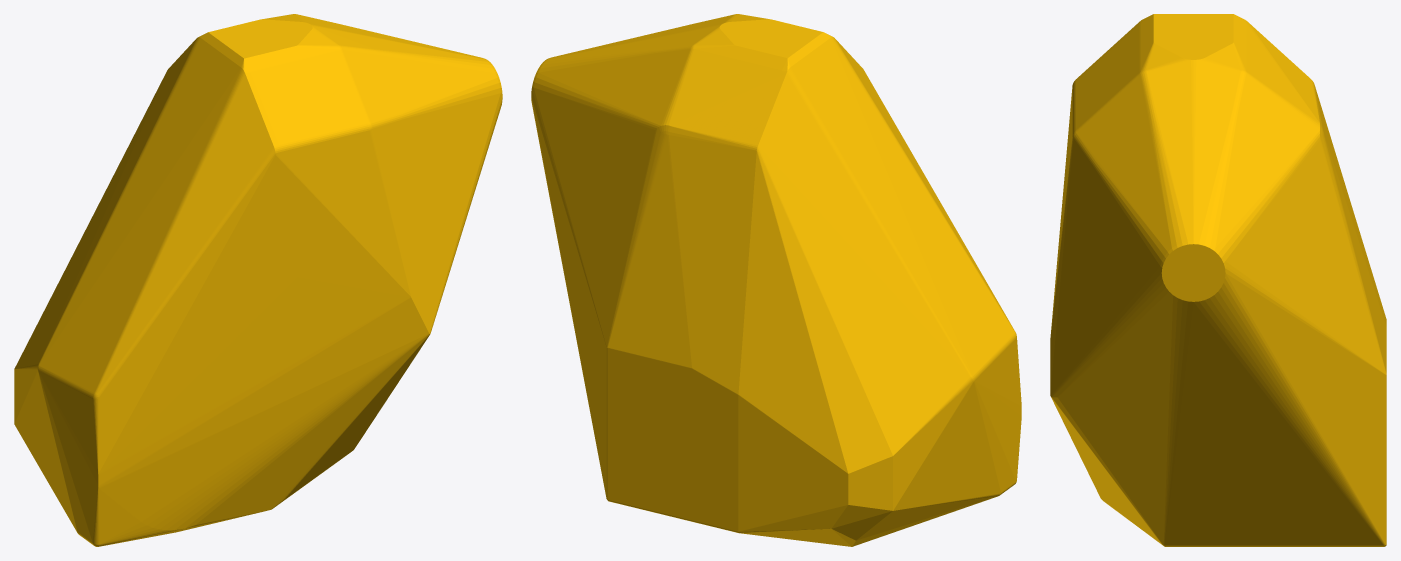
3 renders of one model, left to right at view 1: azimuth 30°, elevation 25°; view 2: azimuth 150°, elevation 25°; view 3: azimuth 270°, elevation 25°, orthographic. The views are drawn at different scales.
Parts seen in each view (by area): view 1: Link 3.001; view 2: Link 3.001; view 3: Link 3.001.
Boxes of the visible parts, <box> form: Link 3.001: <box>14,14,502,546</box>; Link 3.001: <box>531,14,1021,546</box>; Link 3.001: <box>1050,14,1386,546</box>.
Size of the model in its own units: 0.4527 by 0.2689 by 0.4326.
